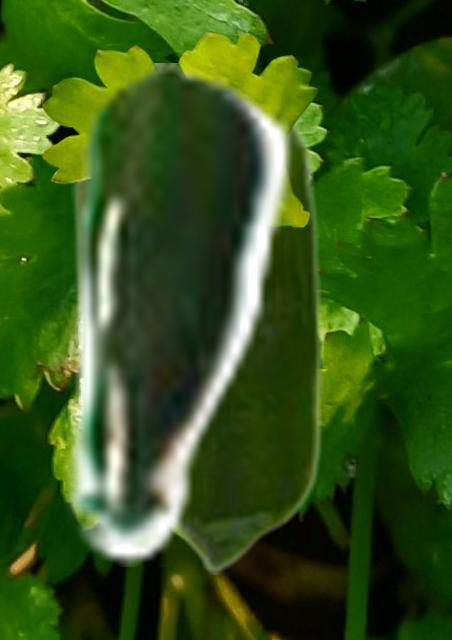green_chili: (71, 63, 322, 573), (54, 62, 295, 565)
